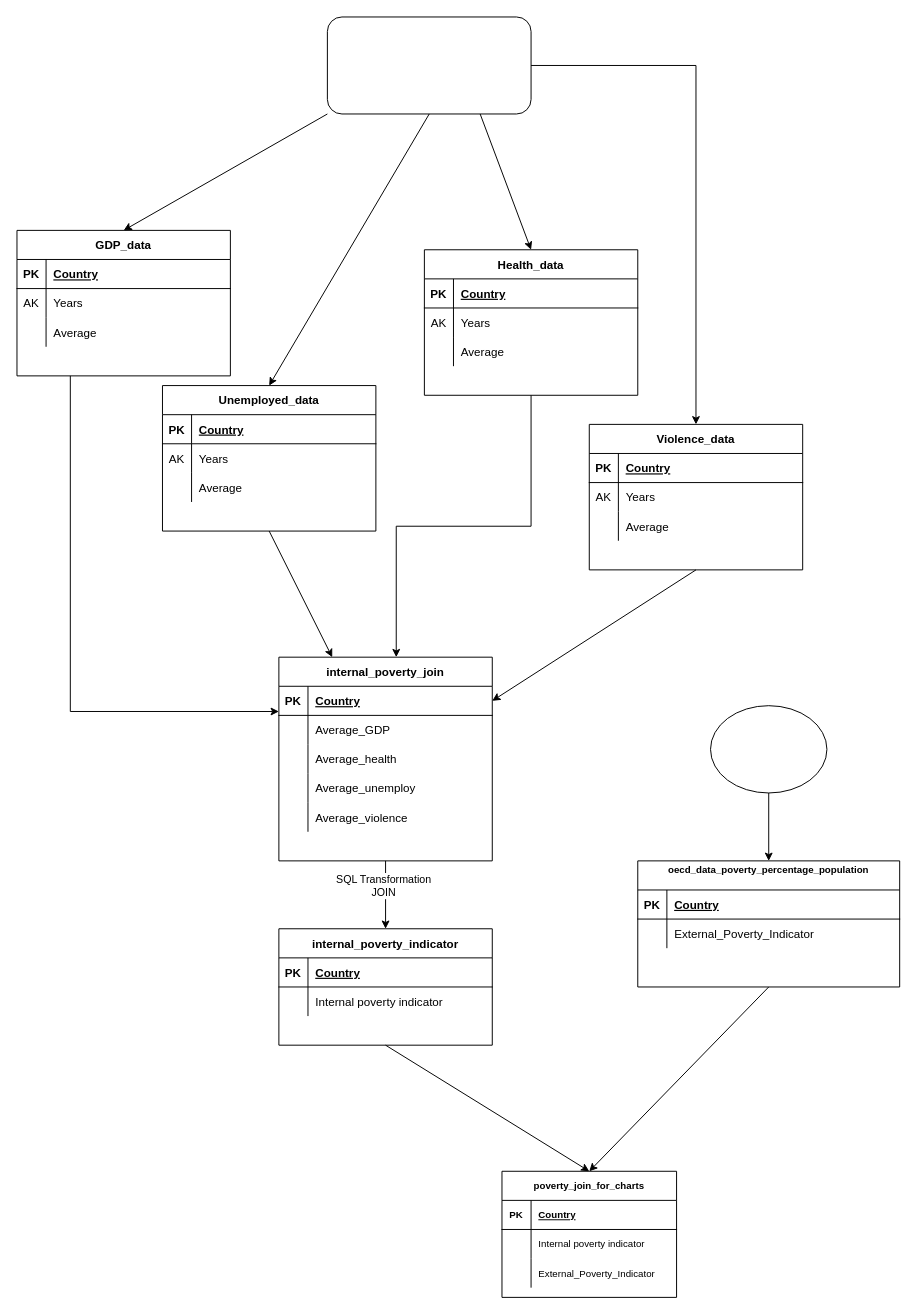
Image size: 917x1314. Some labels were removed from this diagram. Each missing label, with the centre of its shape:
Exporting data directly from URL: the point at 768,749
Python API Wrapper World Bank To get the data: the point at 428,65
